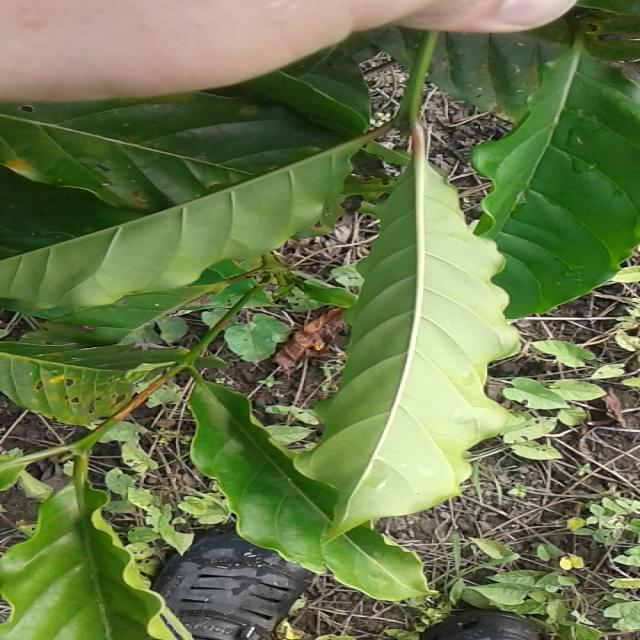Sanas: (283, 124, 509, 544)
